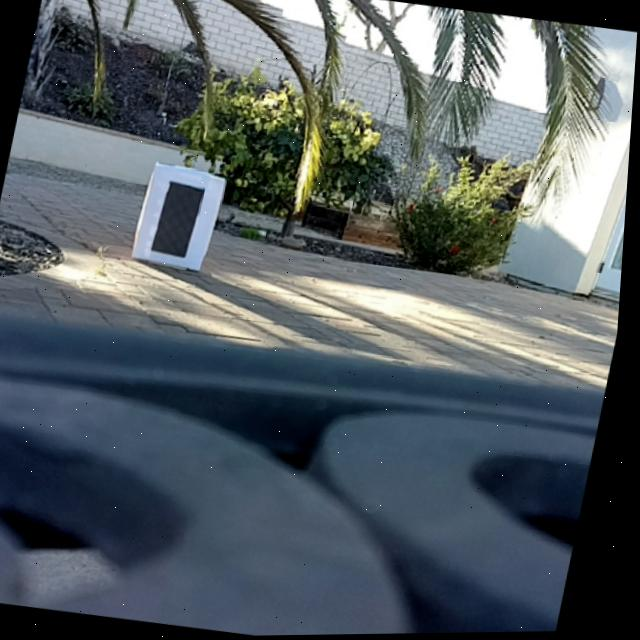led: (152, 178, 210, 261)
